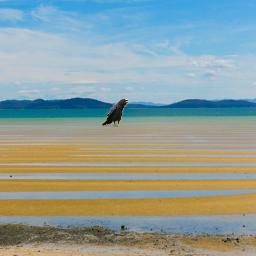Crow: (102, 99, 128, 127)
